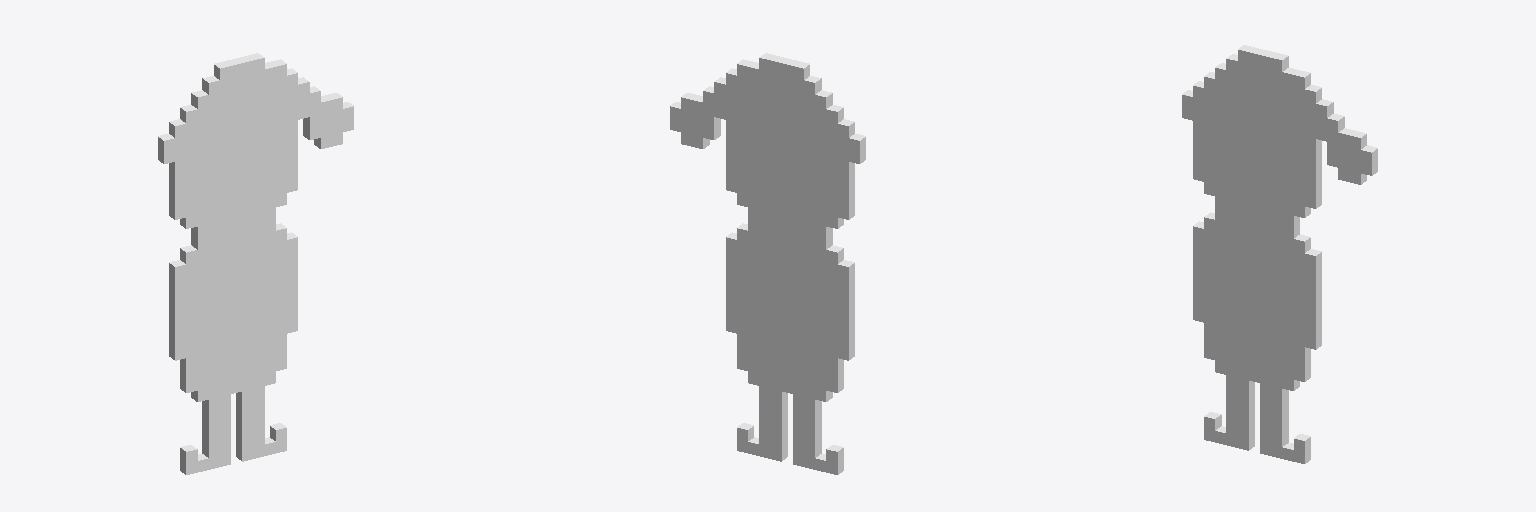
The model's file is эль.obj.
3 views of the same model, side by side, from view 1: azimuth 30°, elevation 25°; view 2: azimuth 150°, elevation 25°; view 3: azimuth 330°, elevation 25° (orthographic).
Parts seen in each view (by area): view 1: object 1; view 2: object 1; view 3: object 1.
Boxes of the visible parts, box(x1,y1,x2,y2) form: object 1: box(158, 53, 353, 474); object 1: box(670, 53, 865, 474); object 1: box(1182, 45, 1377, 463).
Bounding box in the file's own units: 1.7 × 3.4 × 0.1.